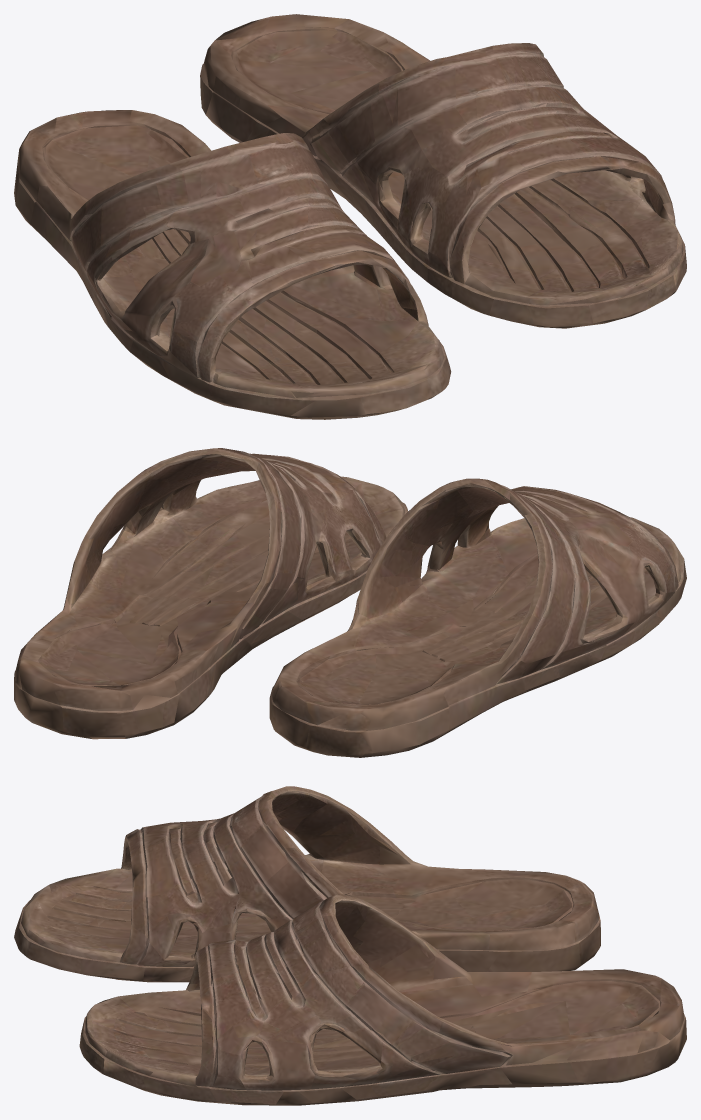
File: e4sandalsb.glb
The picture shows the model from 3 angles, top to bottom: view 1: azimuth 30°, elevation 25°; view 2: azimuth 150°, elevation 25°; view 3: azimuth 270°, elevation 25°; orthographic projection. The views are drawn at different scales.
Parts seen in each view (by area): view 1: output_unwrapped; view 2: output_unwrapped; view 3: output_unwrapped.
Boxes of the visible parts, x1,y1,x2,y2 form: output_unwrapped: [14, 14, 686, 419]; output_unwrapped: [14, 448, 686, 757]; output_unwrapped: [14, 786, 686, 1105].
Bounding box in the file's own units: 0.2134 × 0.0644 × 0.27.
Materials: 1 (1 with a texture image).
